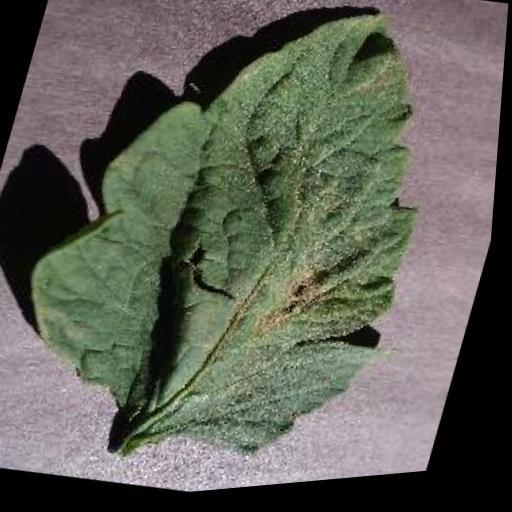Early Blight: (0, 0, 483, 503)
